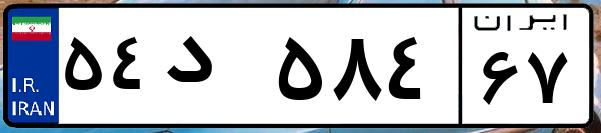4: (385, 28, 445, 110), (110, 28, 158, 98)
5: (270, 28, 330, 110), (57, 26, 110, 100)
6: (475, 38, 525, 113)
7: (525, 38, 570, 115)
8: (330, 28, 385, 110)
د: (158, 20, 270, 120)
